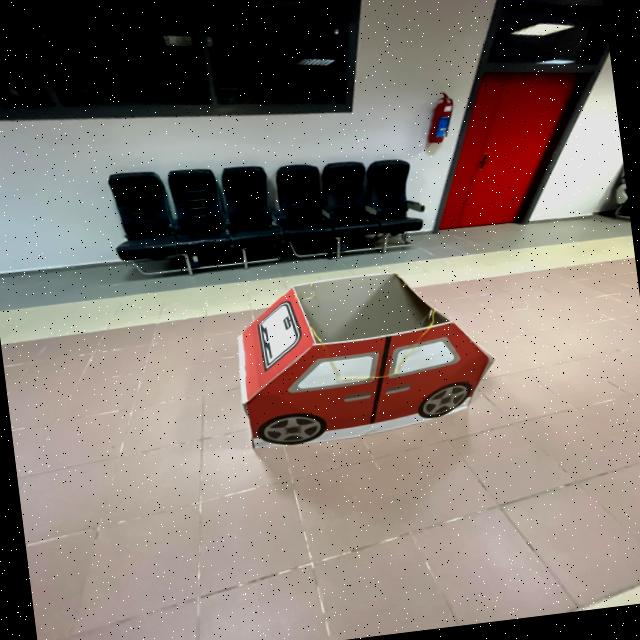red_car: (197, 244, 511, 471)
